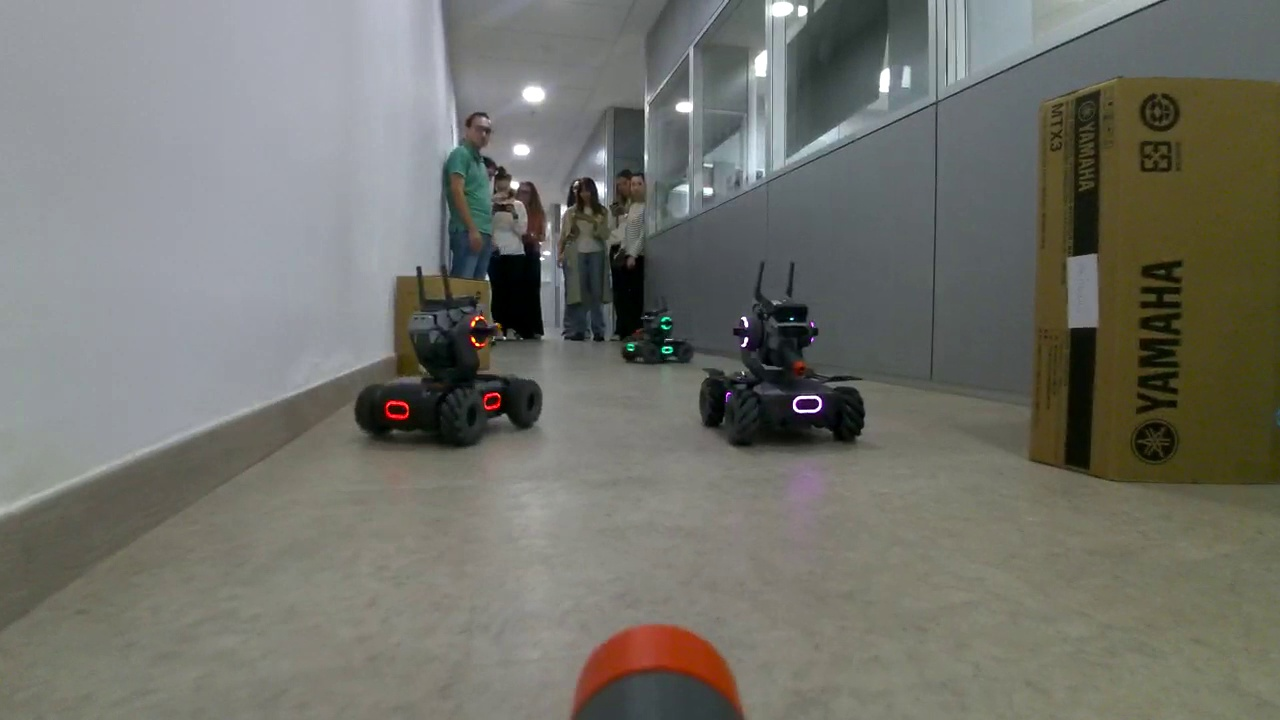robot: (353, 296, 542, 451), (696, 295, 866, 450), (618, 310, 695, 364)
